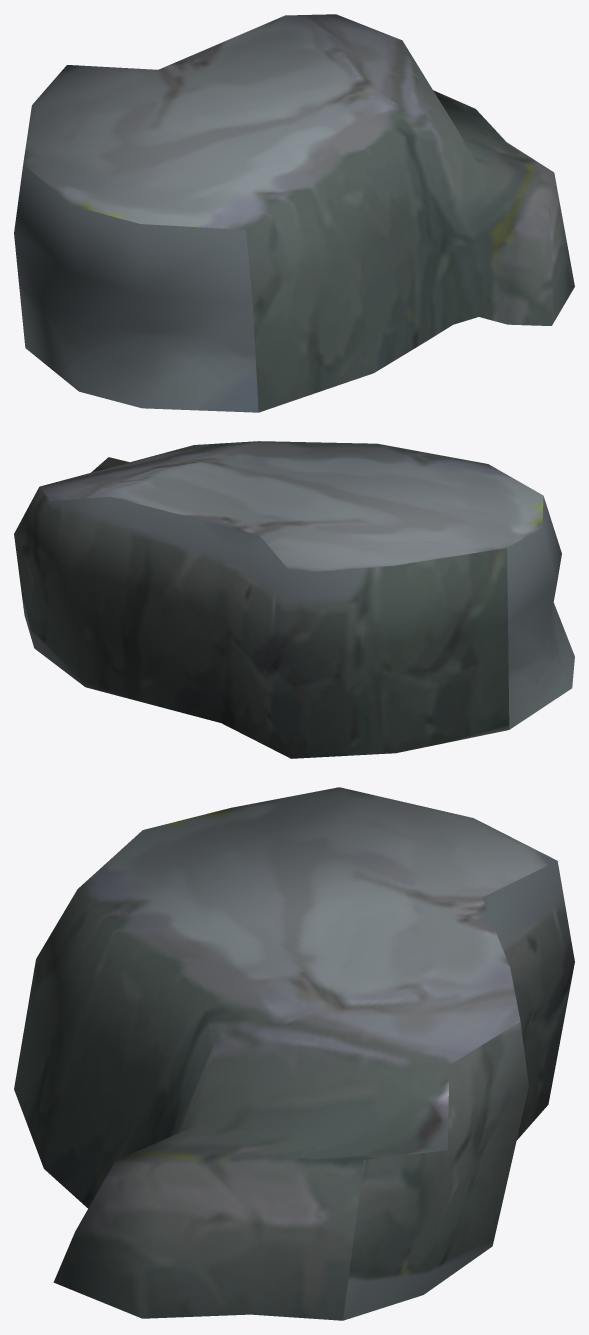
File: yewai_shitou_02.FBX
3 renders of one model, top to bottom at view 1: azimuth 30°, elevation 25°; view 2: azimuth 150°, elevation 25°; view 3: azimuth 270°, elevation 25°, orthographic. The views are drawn at different scales.
Visible parts, largest first — view 1: yewai_shitou_02; view 2: yewai_shitou_02; view 3: yewai_shitou_02.
Part boxes in pixels (box(x1,y1,x2,y2)): yewai_shitou_02: box(14, 14, 574, 412); yewai_shitou_02: box(14, 441, 574, 758); yewai_shitou_02: box(14, 787, 574, 1320).
Bounding box in the file's own units: 178 × 71.16 × 139.
